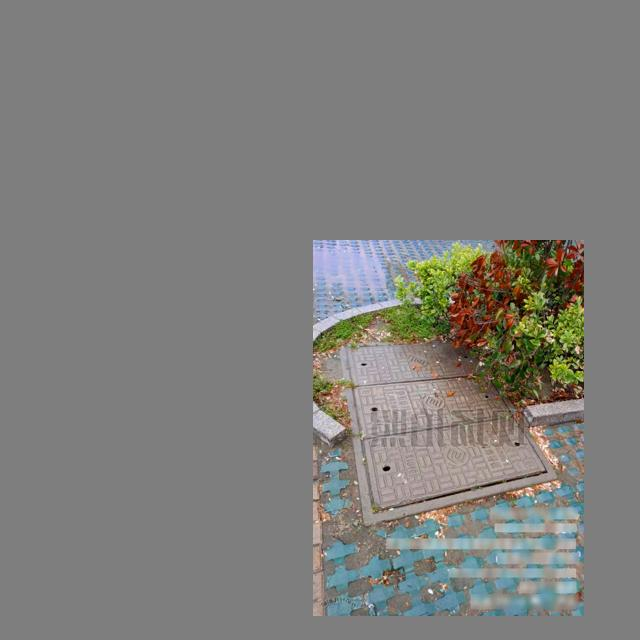good: (340, 342, 558, 524)
